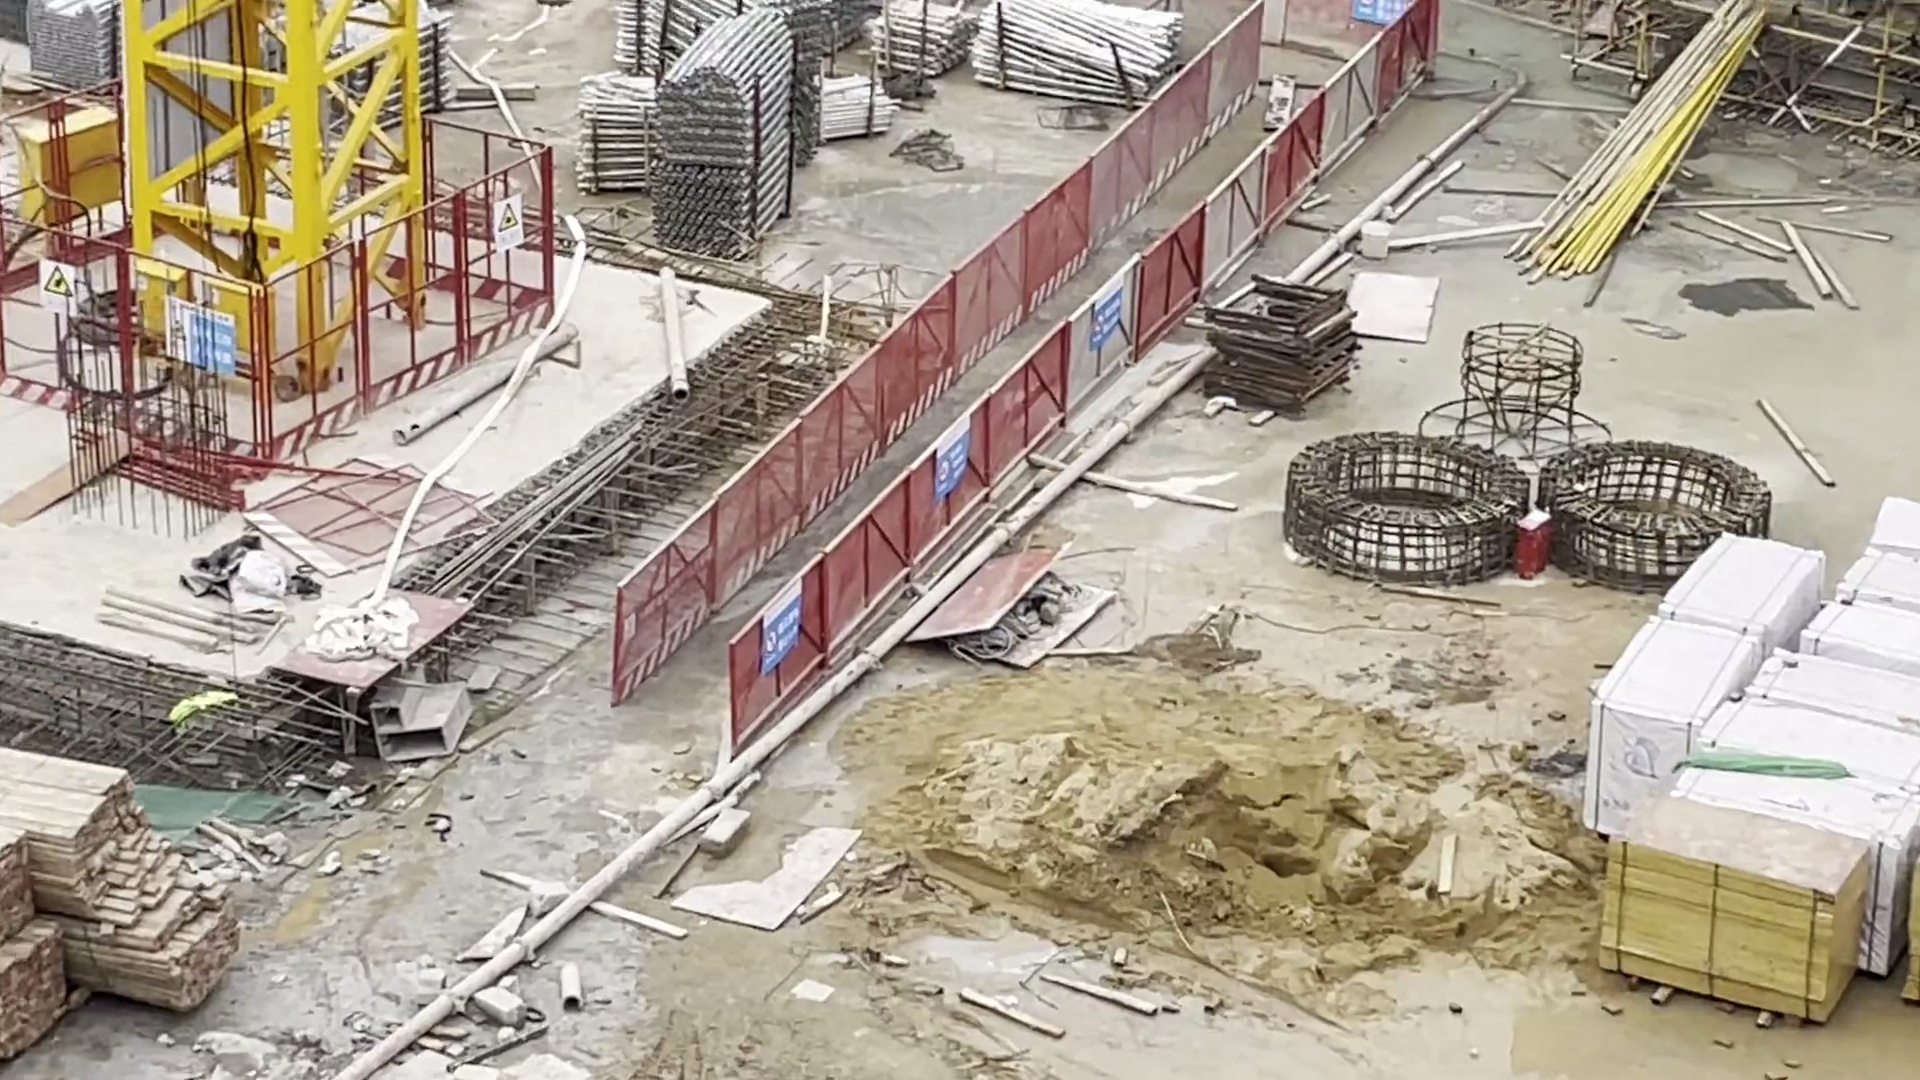ebox: (21, 108, 132, 216)
fence: (658, 17, 1381, 691), (44, 135, 636, 481)
scaffold: (649, 17, 794, 262), (982, 1, 1154, 103), (311, 8, 448, 115), (16, 3, 121, 102), (582, 73, 649, 193), (611, 1, 694, 65), (822, 82, 901, 148)
slogan: (735, 571, 839, 678), (175, 280, 253, 386), (1087, 282, 1158, 375), (30, 247, 88, 316), (483, 194, 538, 260), (935, 422, 975, 498)
wood: (1585, 793, 1874, 1025), (42, 770, 264, 1021), (1, 843, 94, 1031)
